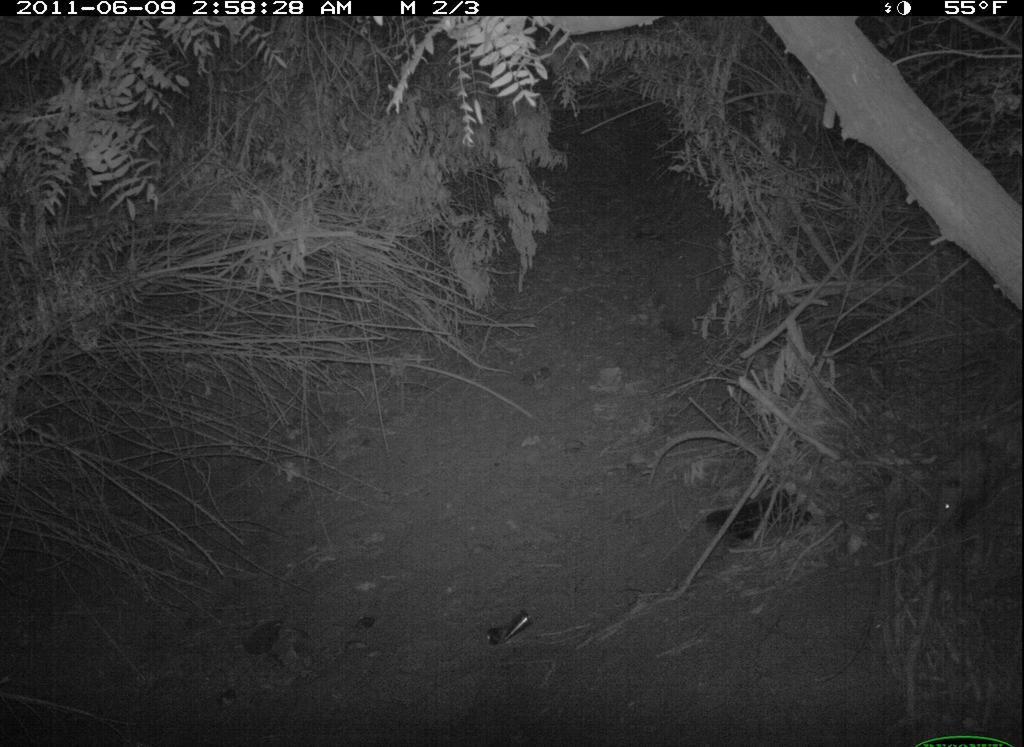opossum: (930, 417, 1024, 535)
